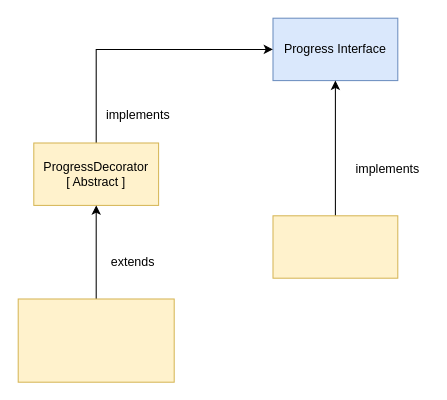
Image size: 447x400. Some labels were removed from this diagram. Here are the shapes that lost their labels. From the top down, the centre of each, then its label:
At point 335,246: "EngineProgress".
At point 95,340: "BackupProgress Decorating an EngineProgress".
